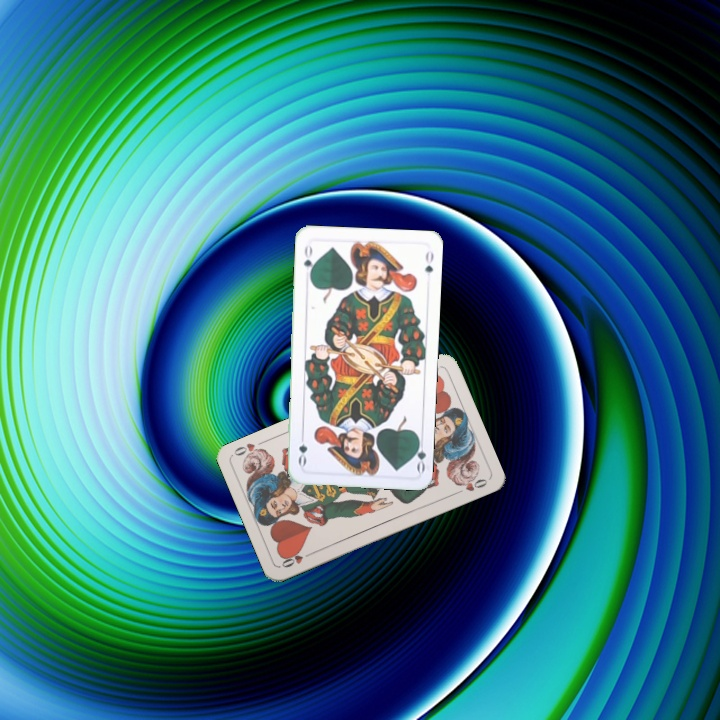GO: (409, 434, 428, 474), (299, 241, 317, 281)
HO: (277, 548, 316, 570)
